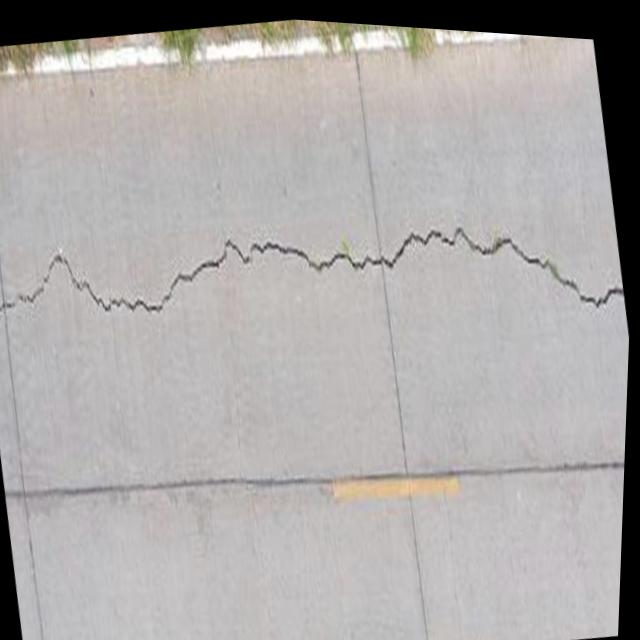Crack: (0, 118, 637, 435)
